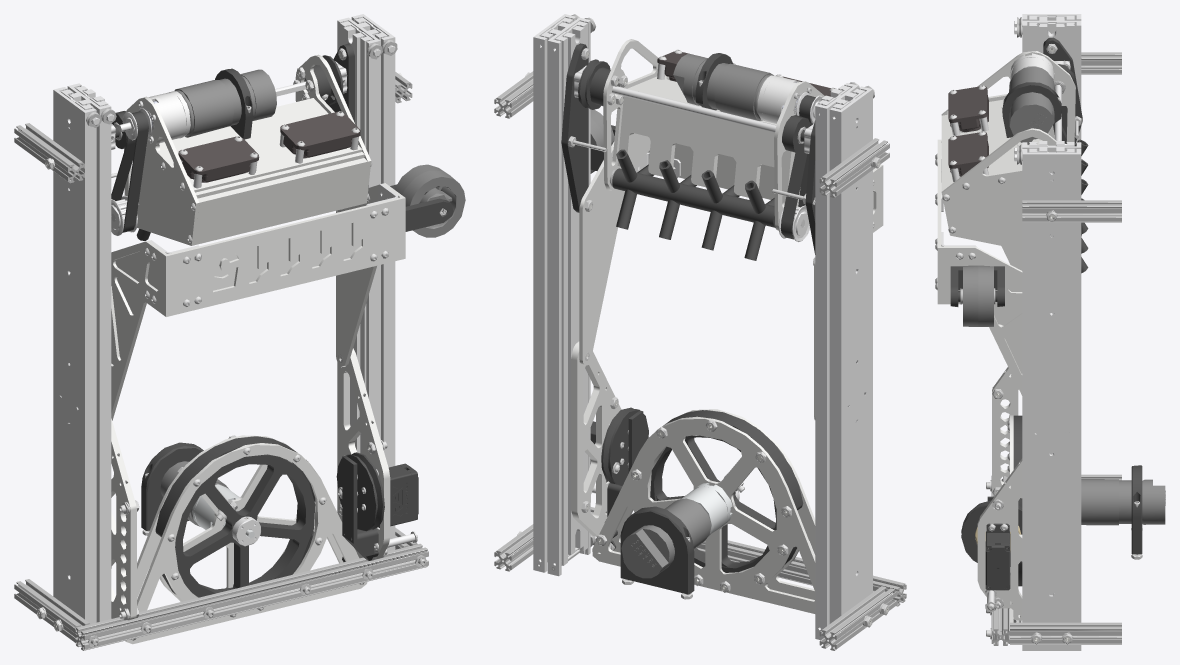
Rendered from roverruckus-intake.glb.
The picture shows the model from 3 angles, left to right: view 1: azimuth 30°, elevation 25°; view 2: azimuth 150°, elevation 25°; view 3: azimuth 270°, elevation 25°; orthographic projection. The views are drawn at different scales.
Visible parts, largest first — view 1: Front Extrusion Mount v13; view 2: Front Extrusion Mount v13, Print Roller v22; view 3: Front Extrusion Mount v13.
Part boxes in pixels (x1,y1,x2,y2): Front Extrusion Mount v13: [14, 14, 465, 650]; Front Extrusion Mount v13: [494, 14, 906, 650]; Print Roller v22: [612, 168, 775, 227]; Front Extrusion Mount v13: [935, 14, 1165, 650].
Bounding box in the file's own units: 0.3244 × 0.4483 × 0.1883.
3 materials, 1 textured.
